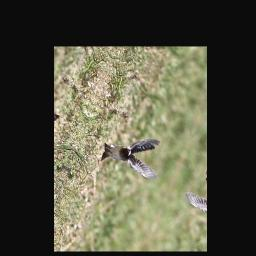Swallow: (98, 116, 170, 192)
